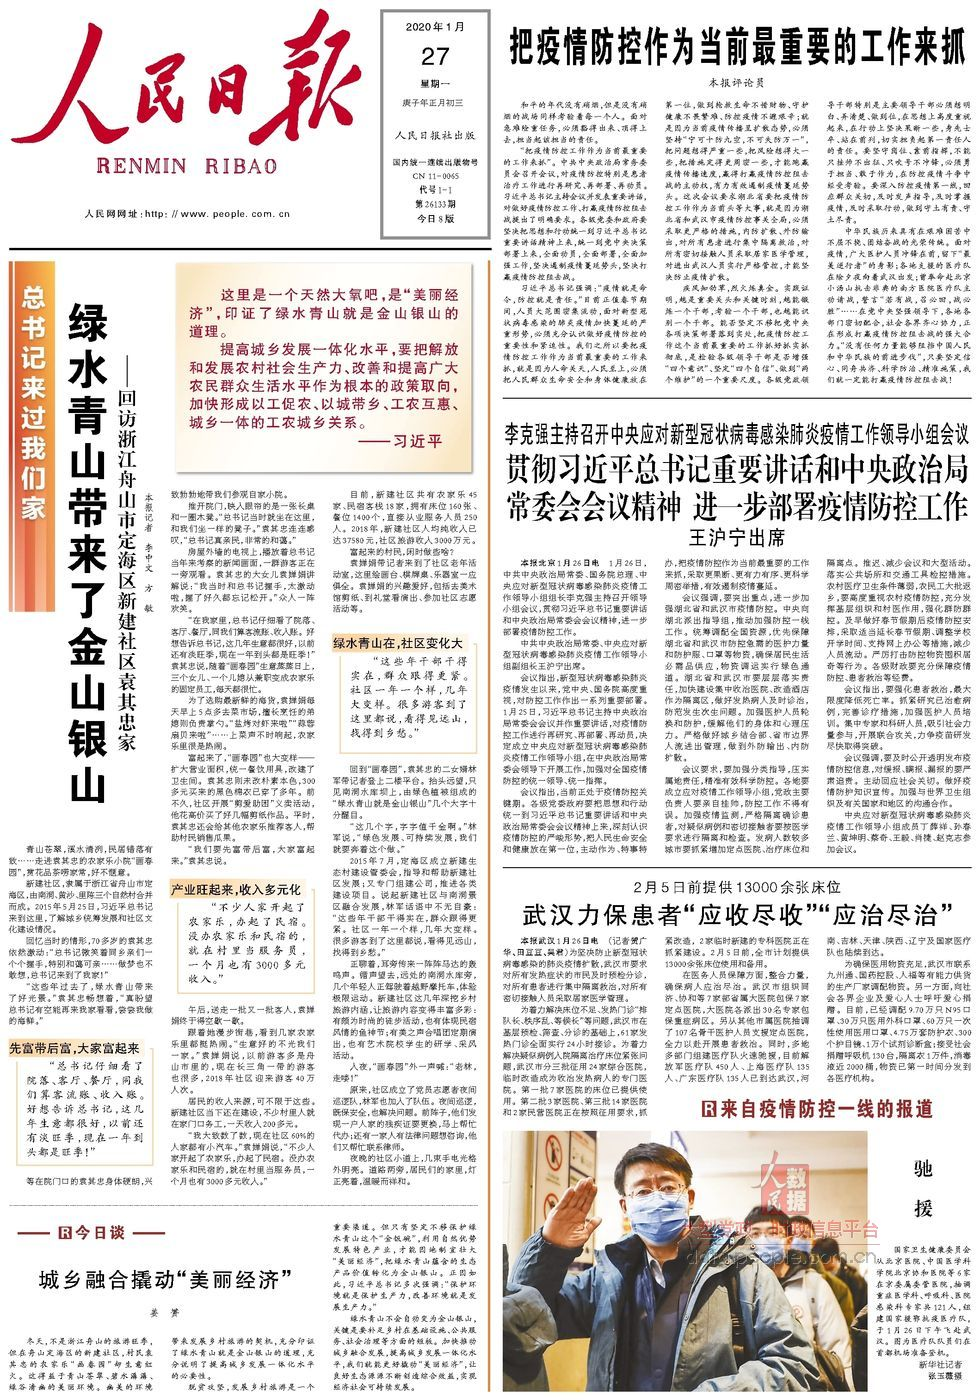pic: (497, 1126, 873, 1397)
